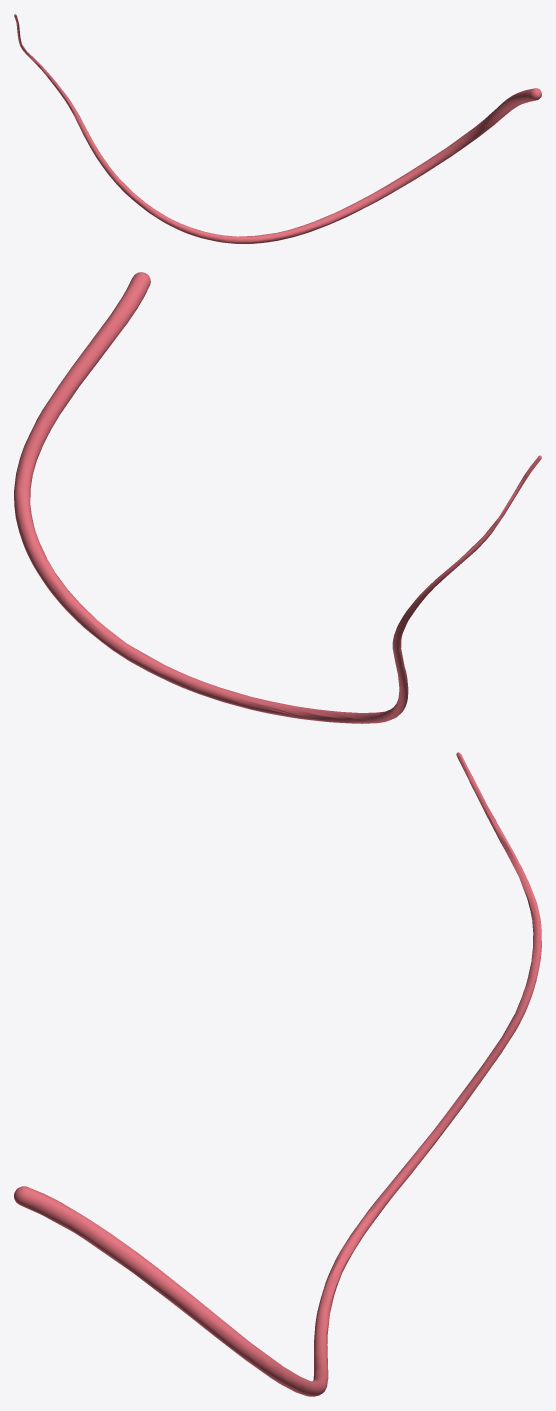
Rendered from fma50692_fj5172.glb.
3 views of the same model, one above another, from view 1: azimuth 30°, elevation 25°; view 2: azimuth 150°, elevation 25°; view 3: azimuth 270°, elevation 25° (orthographic). The views are drawn at different scales.
Parts seen in each view (by area): view 1: FMA50692_FJ5172; view 2: FMA50692_FJ5172; view 3: FMA50692_FJ5172.
Boxes of the visible parts, x1=… form: FMA50692_FJ5172: x1=14, y1=14, x2=541, y2=243; FMA50692_FJ5172: x1=14, y1=272, x2=541, y2=723; FMA50692_FJ5172: x1=14, y1=752, x2=541, y2=1396.
Bounding box in the file's own units: 0.0447 × 0.0261 × 0.0302.
